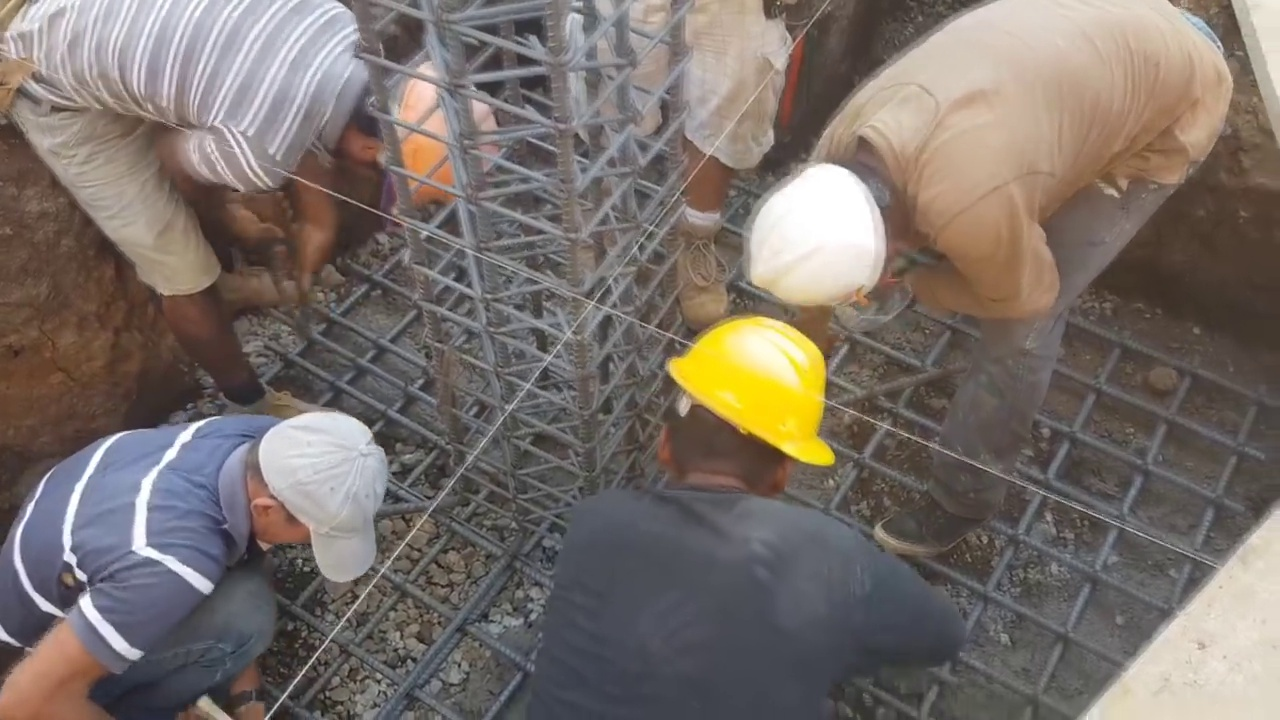helmet: (664, 312, 836, 472), (747, 160, 882, 317), (397, 58, 505, 209)
helmet-off: (230, 413, 385, 582)
helmet-on: (758, 136, 927, 323), (336, 47, 512, 218)
person: (750, 0, 1233, 560), (3, 2, 506, 396), (520, 315, 958, 717), (0, 410, 390, 719), (545, 0, 762, 294)
